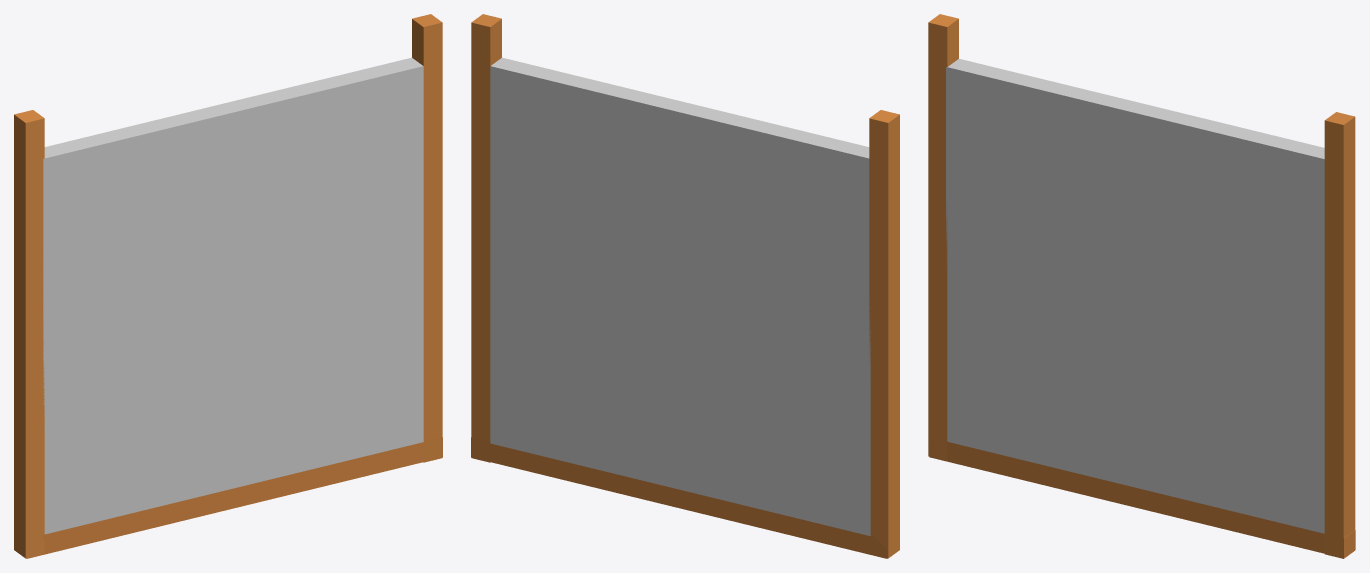
Rendered from glassframe.fbx.
3 renders of one model, left to right at view 1: azimuth 30°, elevation 25°; view 2: azimuth 150°, elevation 25°; view 3: azimuth 330°, elevation 25°, orthographic.
Visible parts, largest first — view 1: Cube.003, Cube.002, Cube.001, Cube; view 2: Cube.003, Cube.002, Cube.001, Cube; view 3: Cube.003, Cube.001, Cube.002, Cube.
Part boxes in pixels (box(x1,y1,x2,y2)): Cube.003: box(43, 57, 423, 534); Cube.002: box(14, 110, 44, 558); Cube.001: box(412, 14, 442, 462); Cube: box(26, 437, 442, 558); Cube.003: box(490, 57, 870, 536); Cube.002: box(869, 110, 899, 558); Cube.001: box(471, 14, 501, 462); Cube: box(471, 437, 887, 558); Cube.003: box(946, 58, 1324, 533); Cube.001: box(1324, 112, 1355, 558); Cube.002: box(928, 14, 958, 460); Cube: box(929, 437, 1355, 557).
Bounding box in the file's own units: 651 × 651 × 31.47.
